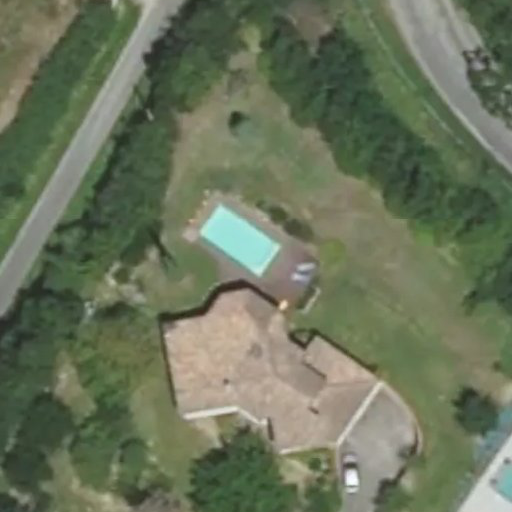pool: (214, 235, 297, 248)
